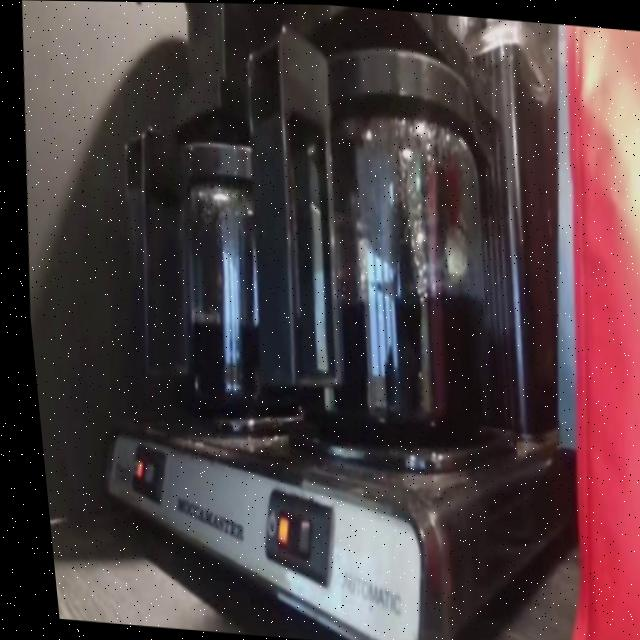coffee: (271, 151, 489, 434), (147, 205, 304, 423)
